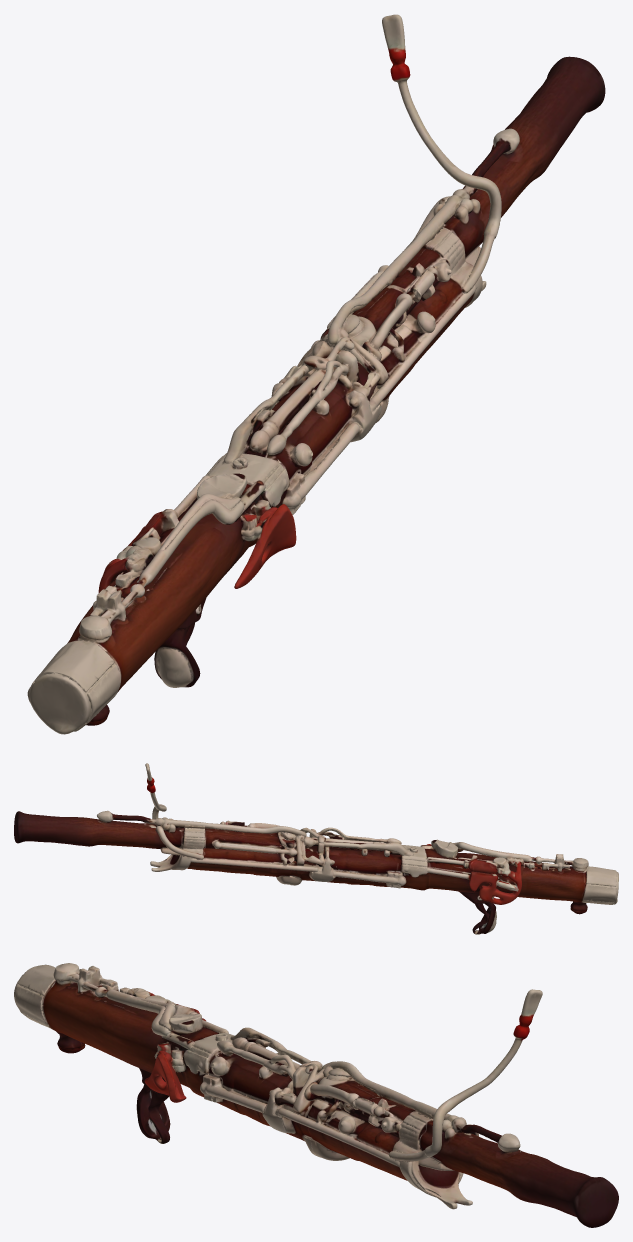
File: fagote.glb
3 renders of one model, top to bottom at view 1: azimuth 30°, elevation 25°; view 2: azimuth 150°, elevation 25°; view 3: azimuth 270°, elevation 25°, orthographic. The views are drawn at different scales.
Visible parts, largest first — view 1: tripo_node_13180cc0-cbff-4c9e-b68a-ddbe544f38d1; view 2: tripo_node_13180cc0-cbff-4c9e-b68a-ddbe544f38d1; view 3: tripo_node_13180cc0-cbff-4c9e-b68a-ddbe544f38d1.
Boxes of the visible parts, x1,y1,x2,y2 form: tripo_node_13180cc0-cbff-4c9e-b68a-ddbe544f38d1: (27, 14, 605, 734); tripo_node_13180cc0-cbff-4c9e-b68a-ddbe544f38d1: (14, 763, 618, 934); tripo_node_13180cc0-cbff-4c9e-b68a-ddbe544f38d1: (14, 963, 618, 1227).
Bounding box in the file's own units: 0.9796 × 0.419 × 0.7005.
Materials: 1 (1 with a texture image).
